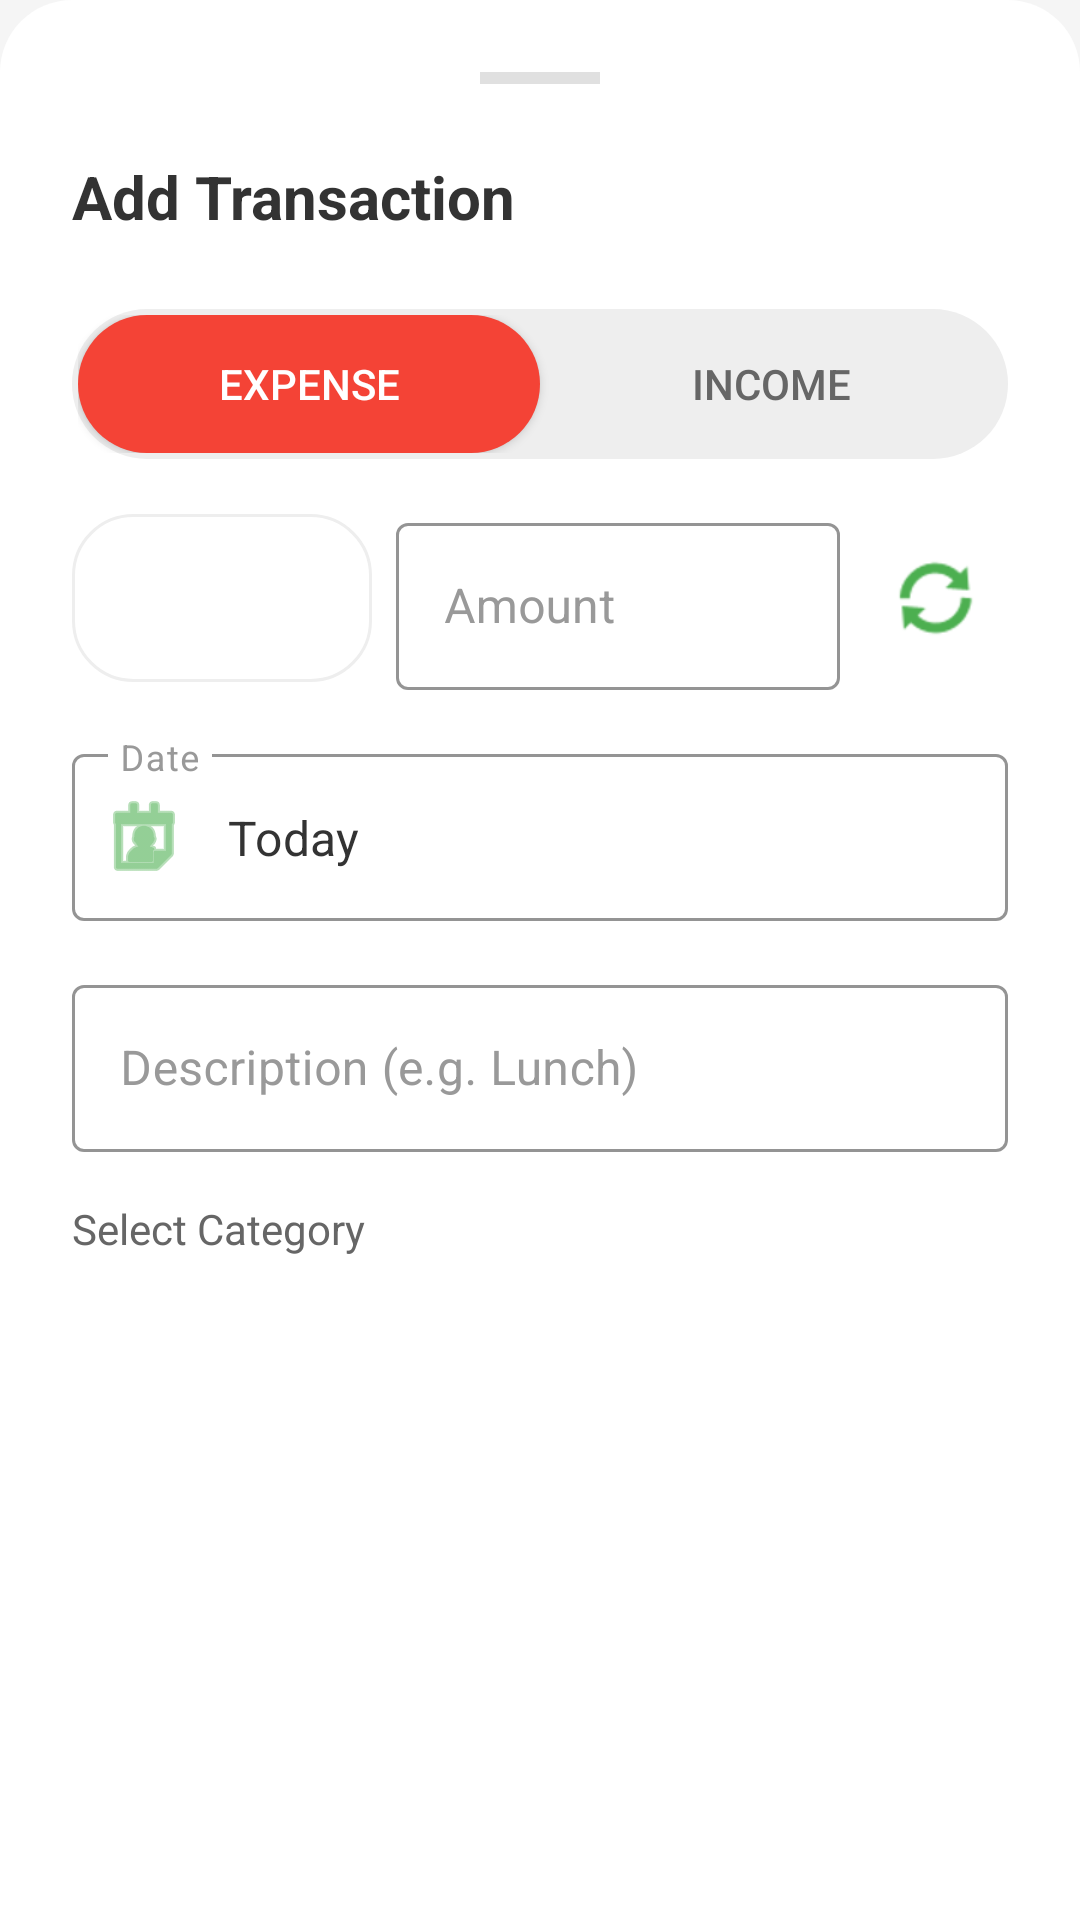

Point at icon controls on the screen. Image size 1080 × 1920, points as [x,y].
Convert: [935,598]
